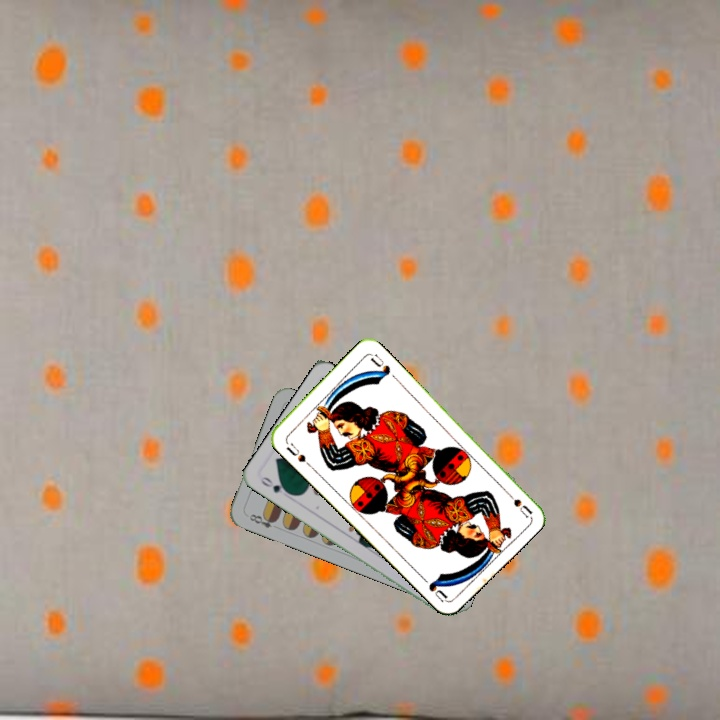E8: (245, 510, 280, 531)
GO: (256, 473, 294, 497)
SU: (500, 485, 534, 519), (282, 439, 314, 469)
